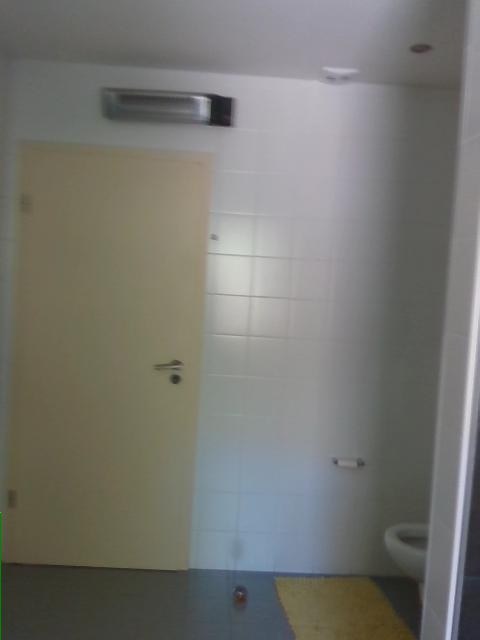door: (5, 138, 214, 569)
